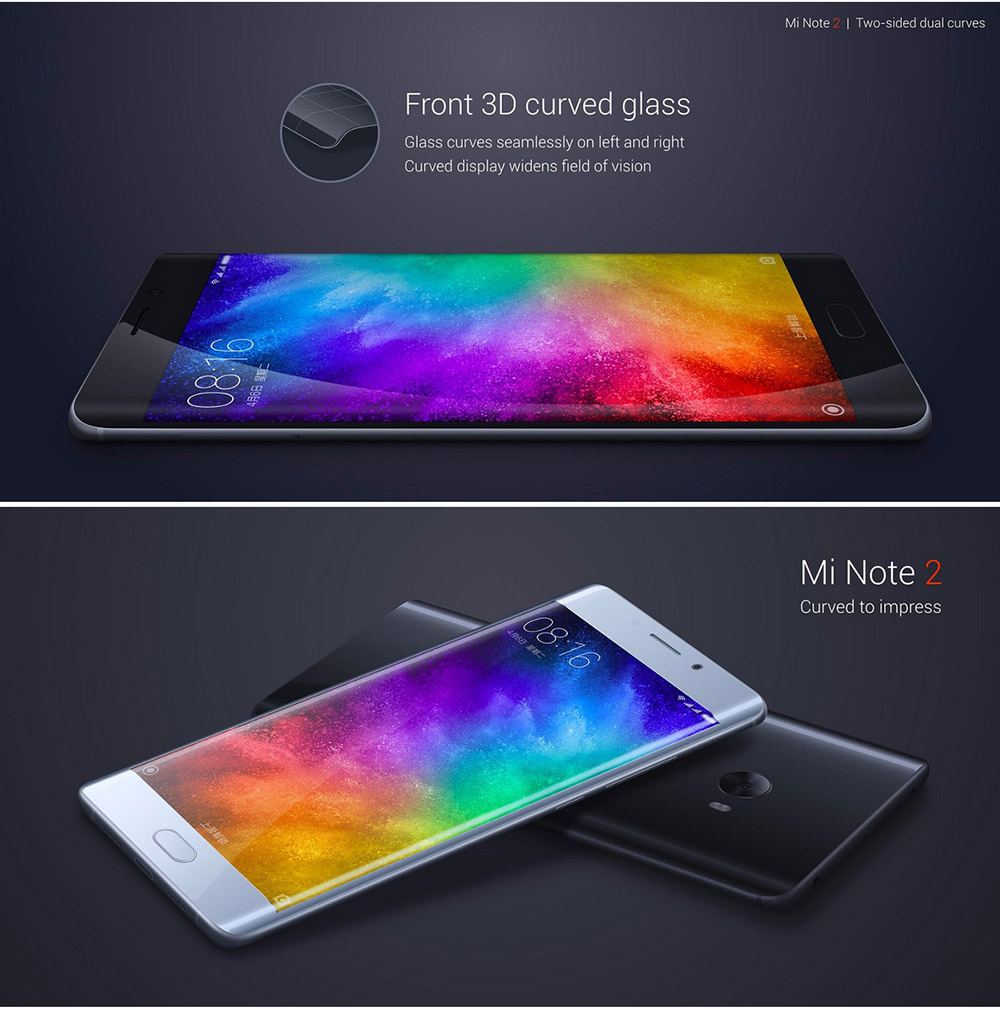smartphone: (77, 582, 767, 949), (251, 598, 930, 913), (66, 254, 931, 446)
